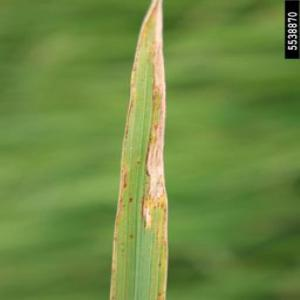Bacterial_Blight: (107, 1, 173, 300)
